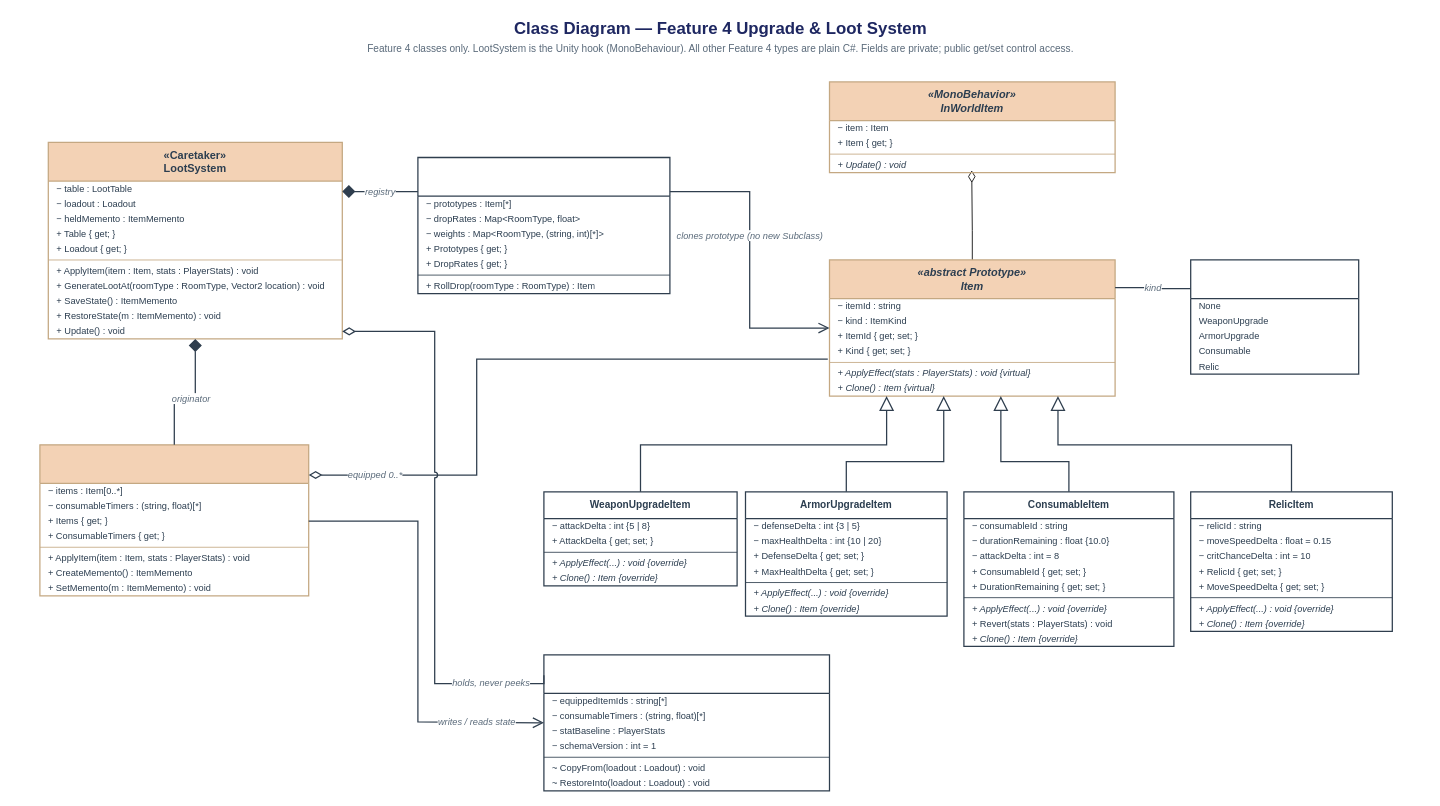
This 1440x806 diagram has some shape labels left out. Here are the shapes that lost their labels. From the top down, the box of each, then its label:
(417, 156, 670, 294): «Prototype registry» LootTable
(1190, 259, 1359, 374): «enumeration» ItemKind
(39, 444, 309, 596): «Originator» Loadout
(543, 654, 830, 791): «Memento» ItemMemento
